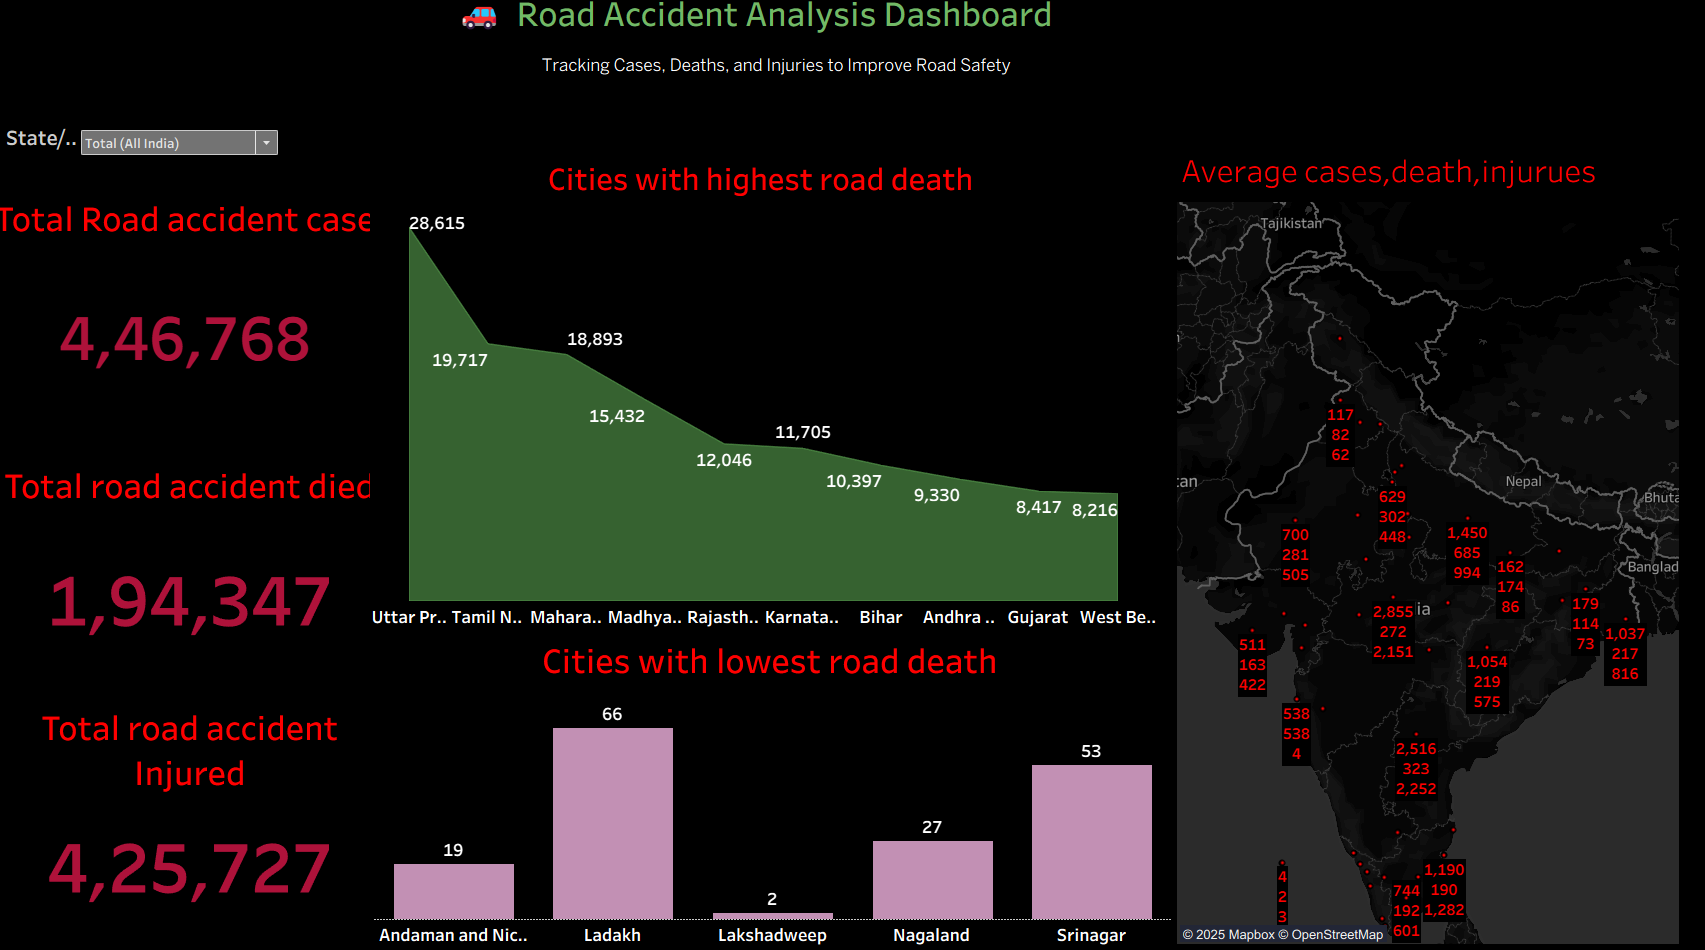

The page's visual inventory and layout, read from the dashboard file:
{"tool":"tableau","page":{"name":"Dashboard 1","canvas":[1000,1000],"units":"permille","ordinal":0},"visuals":[{"type":"text","box":[272.8,7.6,453.1,156.7]},{"type":"filter","title":"Total road  accident case","param":"[federated.119hi5b0lnel5y102zvwb0znnhsp].[none:State/UT/City:nk]","box":[13,167.4,159.9,47.7]},{"type":"worksheet","title":"Average cases,death,injurues","mark":"Automatic","box":[693.8,184.9,292,804.6]},{"type":"worksheet","title":"Cities with highest road death","mark":"Area","rows":["Total Traffic Accidents - Died"],"cols":["State/UT/City"],"box":[224.4,193.8,457.6,479.2]},{"type":"worksheet","title":"Total road  accident case","mark":"Automatic","box":[0.6,231.4,232.7,230.2]},{"type":"worksheet","title":"Total road accident died","mark":"Automatic","box":[3.1,500,233.3,227.9]},{"type":"worksheet","title":"Cities with lowest road death ","mark":"Automatic","rows":["Total Traffic Accidents - Died"],"cols":["State/UT/City"],"box":[226.5,676.7,464.2,327.9]},{"type":"worksheet","title":"Total road accident Injured","mark":"Automatic","box":[2.5,744.2,234.6,226.7]}]}

Visuals, with their boxes on the dashboard's canvas, which has no fixed pixel size, in thousandths of its width and height (x1, y1, x2, y2). These are canvas units, not pixel positions in the 1705x950 screenshot, which may show the page scaled, cropped or inside an application window:
text: crop(273, 8, 726, 164)
"Total road  accident case" filter: crop(13, 167, 173, 215)
"Average cases,death,injurues" worksheet: crop(694, 185, 986, 990)
"Cities with highest road death" worksheet (Area marks): crop(224, 194, 682, 673)
"Total road  accident case" worksheet: crop(1, 231, 233, 462)
"Total road accident died" worksheet: crop(3, 500, 236, 728)
"Cities with lowest road death " worksheet: crop(226, 677, 691, 1005)
"Total road accident Injured" worksheet: crop(2, 744, 237, 971)
